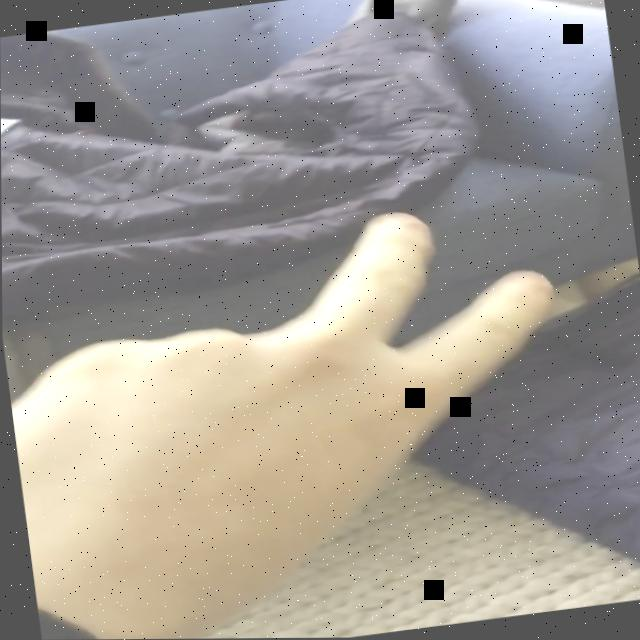Scissors: (1, 193, 585, 628)
